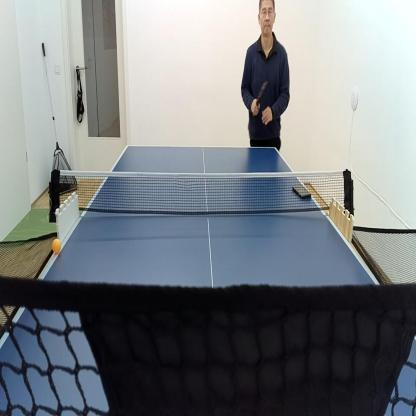Ball: (51, 239, 61, 255)
